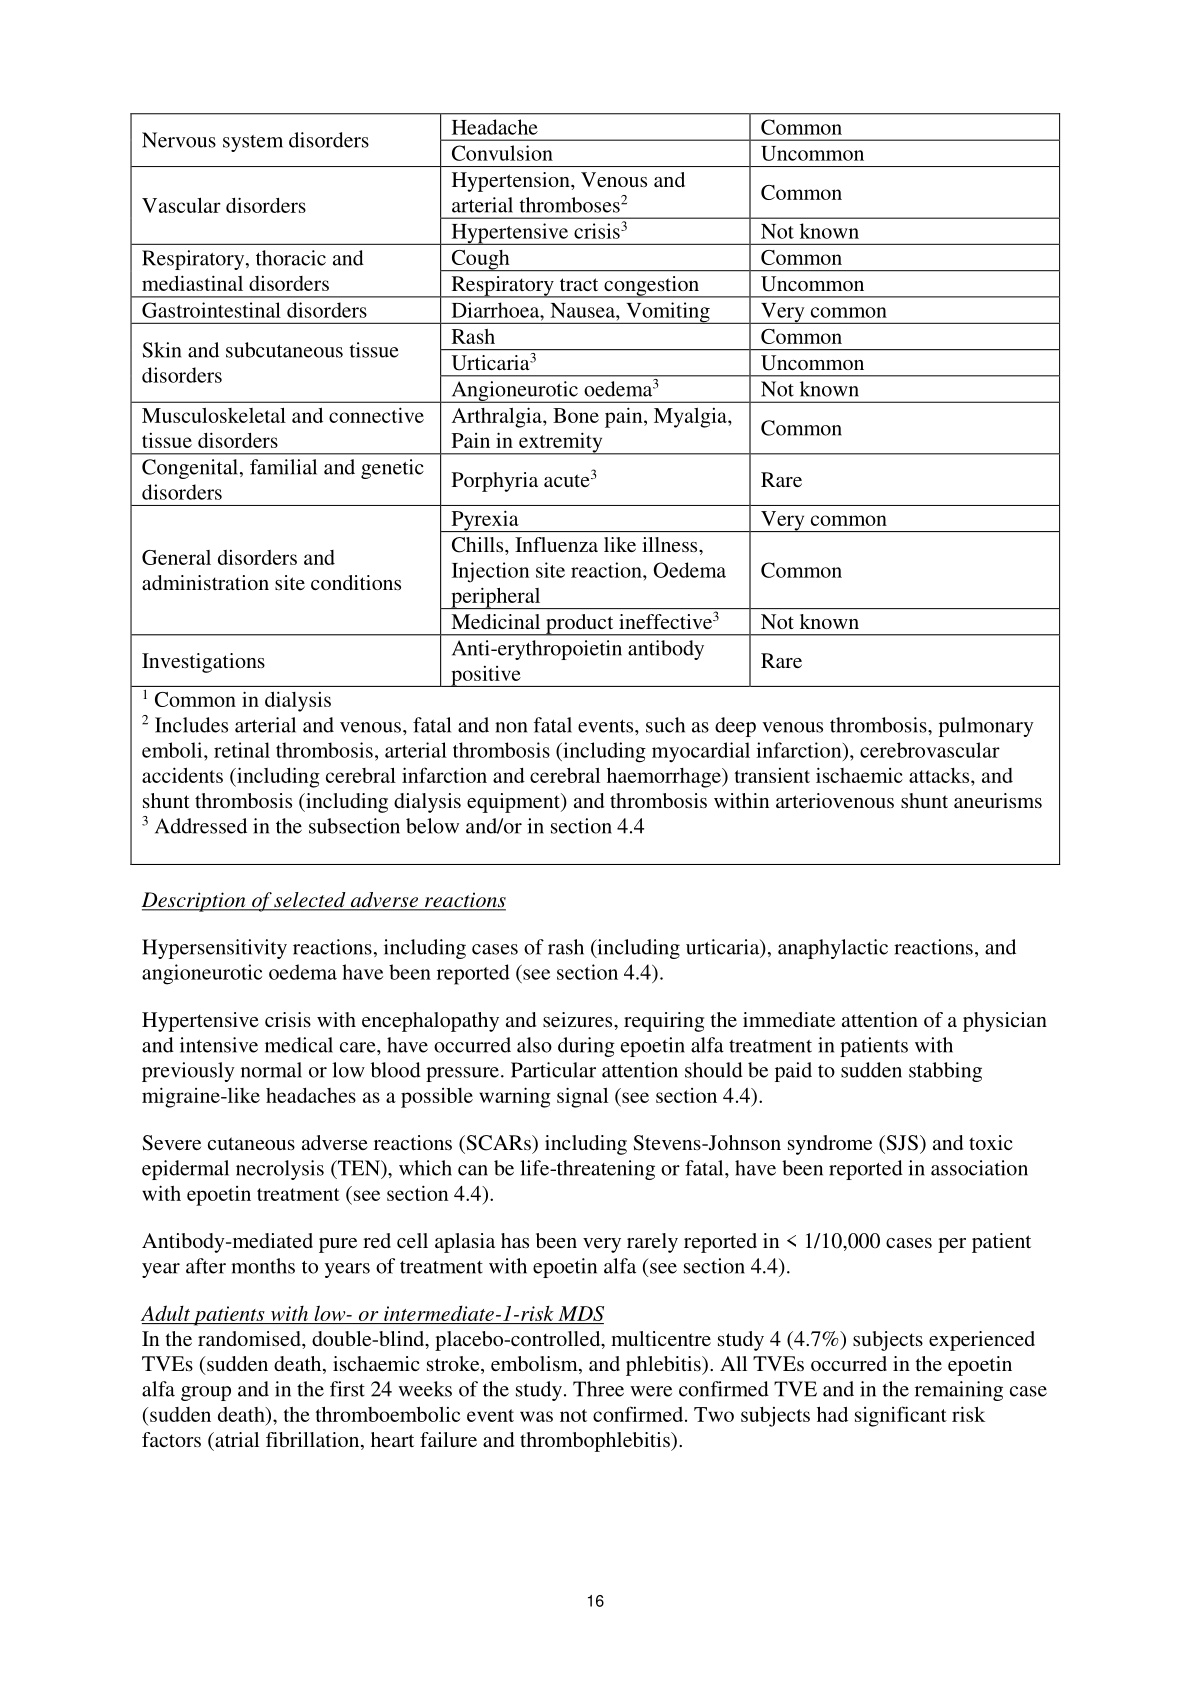merged_cells: (129, 111, 1061, 865)
